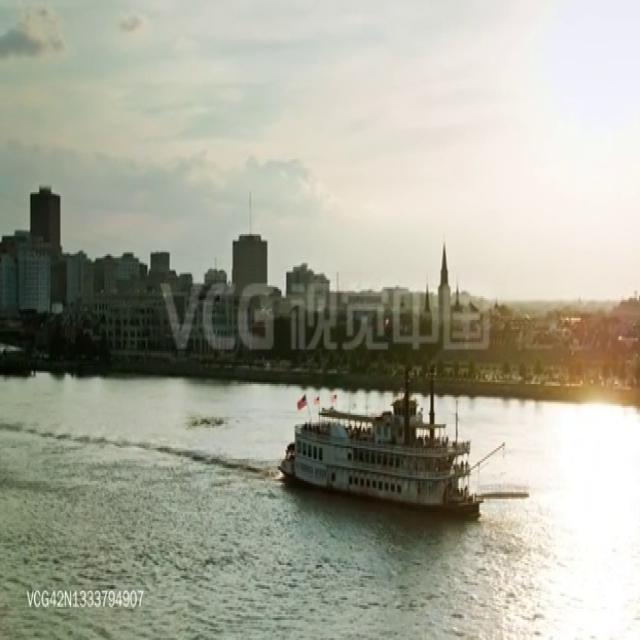passenger ship: (283, 390, 478, 517)
